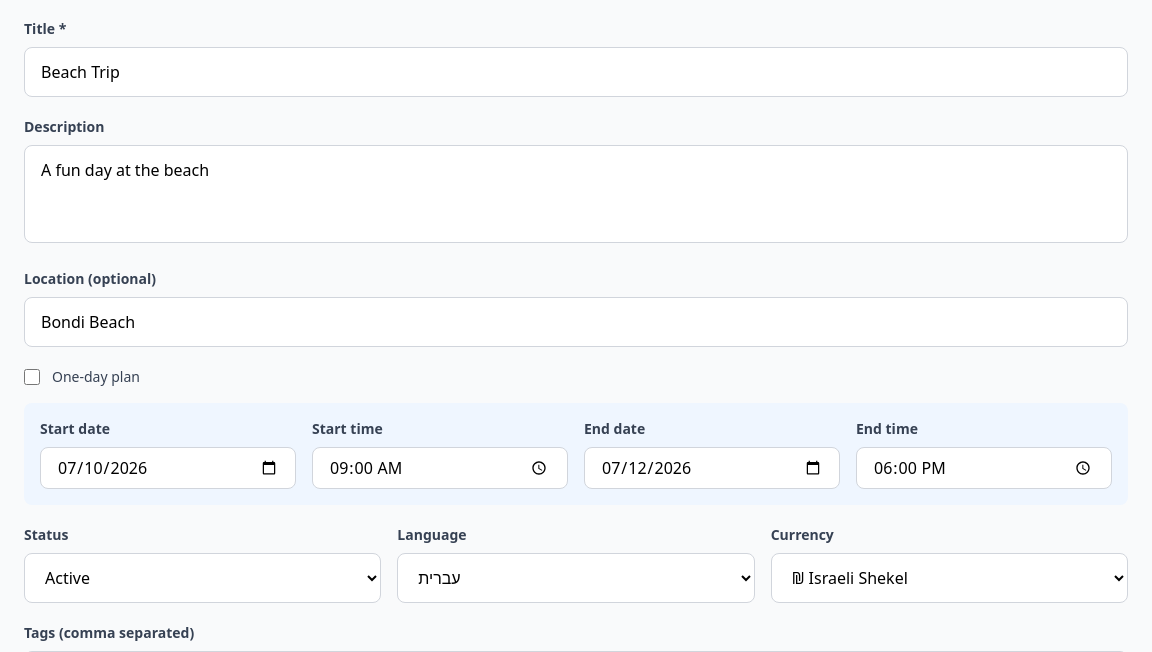
Scenario: EditPlanForm › Step 1 — Plan Details › shows validation error when title is cleared
The width and height of the screenshot is (1152, 652).
Clear the field with placeholder "Enter plan title" below "Title *": point(576, 72) [24,47,1128,97]
(page scrolled)
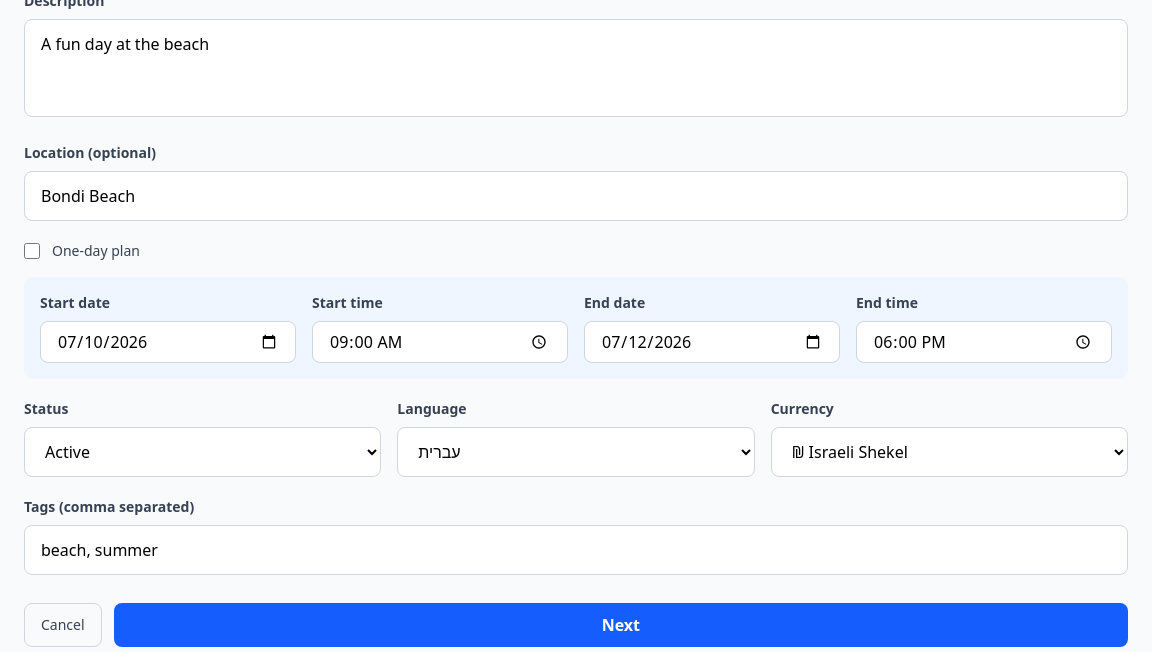
Click the button "Next": point(621, 625) [114,603,1128,647]
(page scrolled)
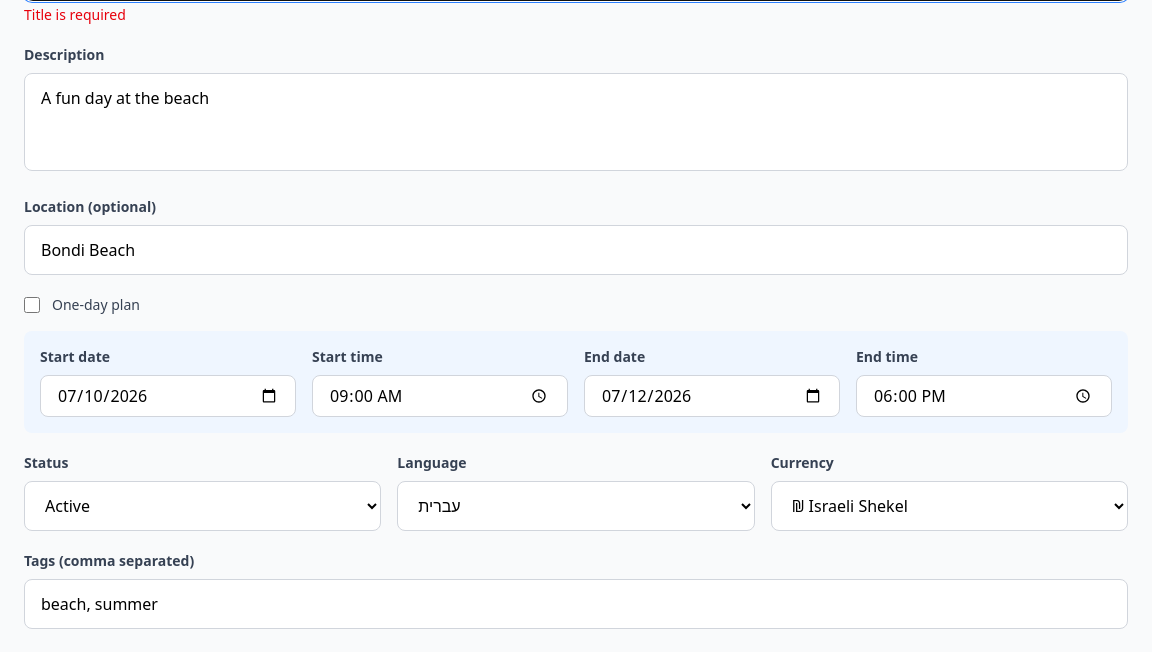
Result: the text "Title is required" is shown at [24,5,126,24]
